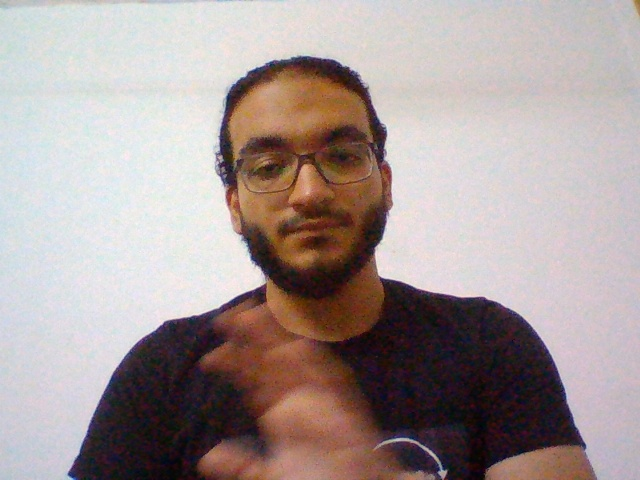Hello: (181, 303, 453, 480)
